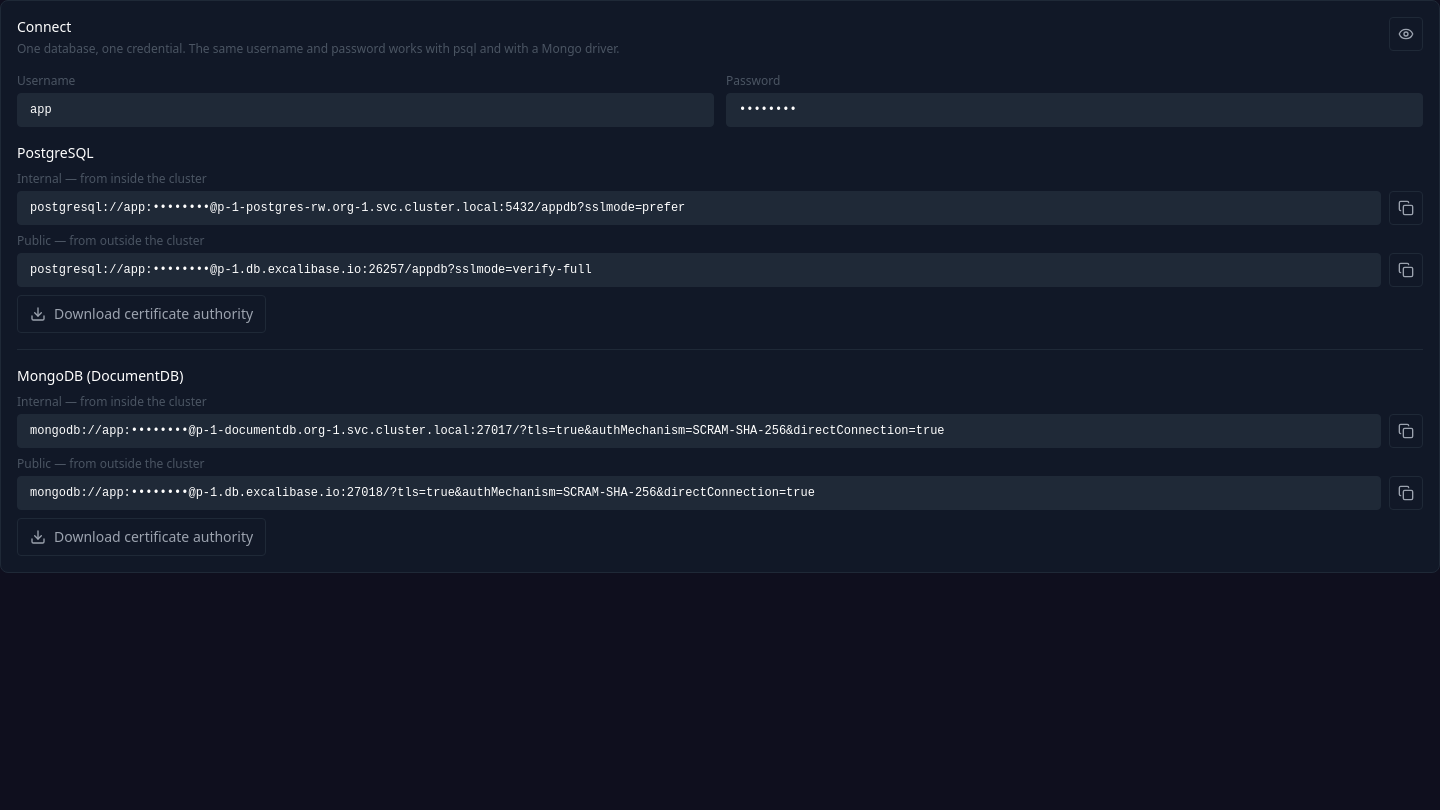
ConnectionStrings — one credential › keeps the password masked until it is revealed, in every string at once
Expected: the text with test id "conn-postgres-public" does not show "s3cret", [17,253,1381,287]
Expected: the text with test id "conn-mongo-public" does not show "s3cret", [17,476,1381,510]
Click the button with test id "conn-reveal-password" at (1406, 34), box [1389,17,1423,51]
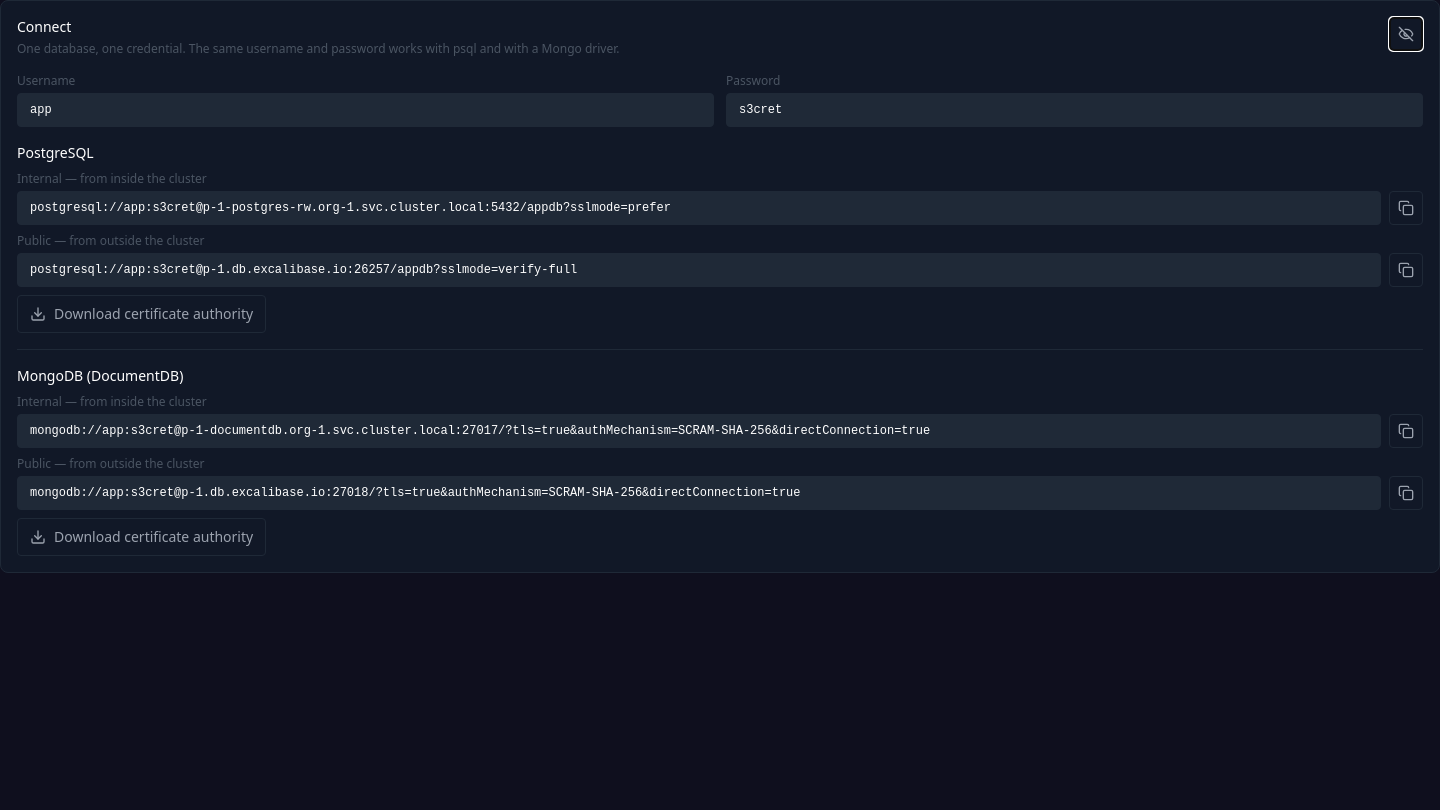
Result: the text with test id "conn-postgres-public" shows "s3cret" at [30,263,577,277]
Result: the text with test id "conn-mongo-public" shows "s3cret" at [30,486,800,500]
Result: the text with test id "conn-password" reads "s3cret" at [739,103,782,117]
